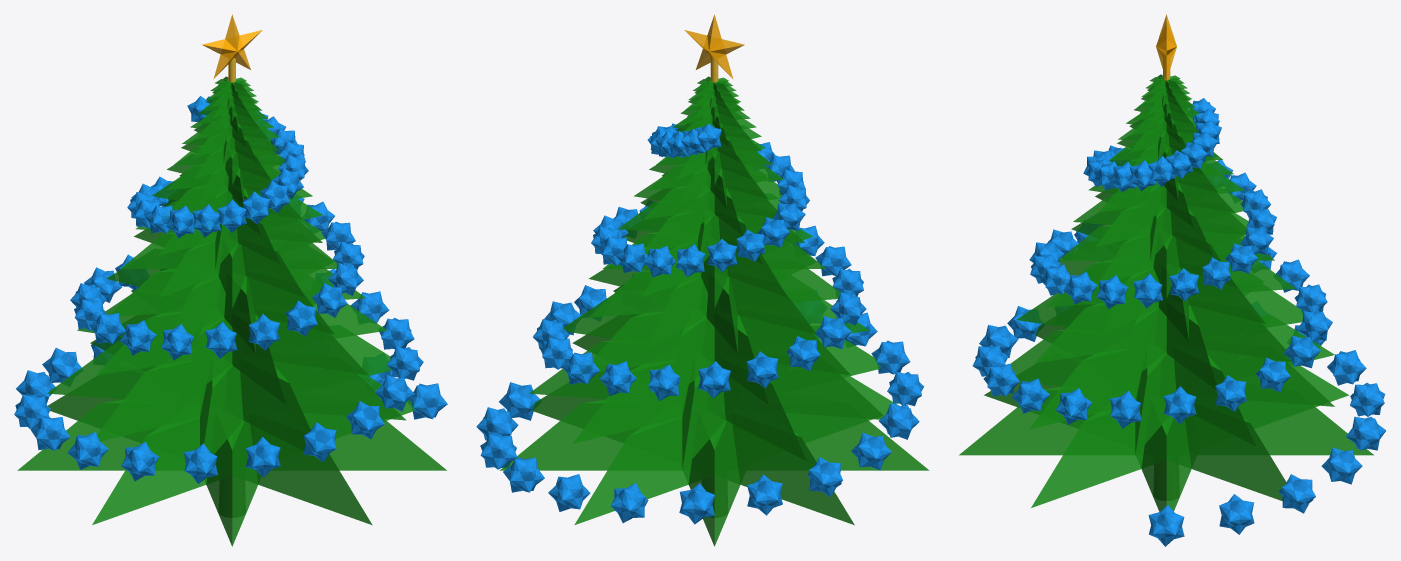
Rendered from fractaltreeg.glb.
3 renders of one model, left to right at view 1: azimuth 30°, elevation 25°; view 2: azimuth 150°, elevation 25°; view 3: azimuth 270°, elevation 25°, orthographic. The views are drawn at different scales.
Bounding box in the file's own units: 10.09 × 12.07 × 9.73.
